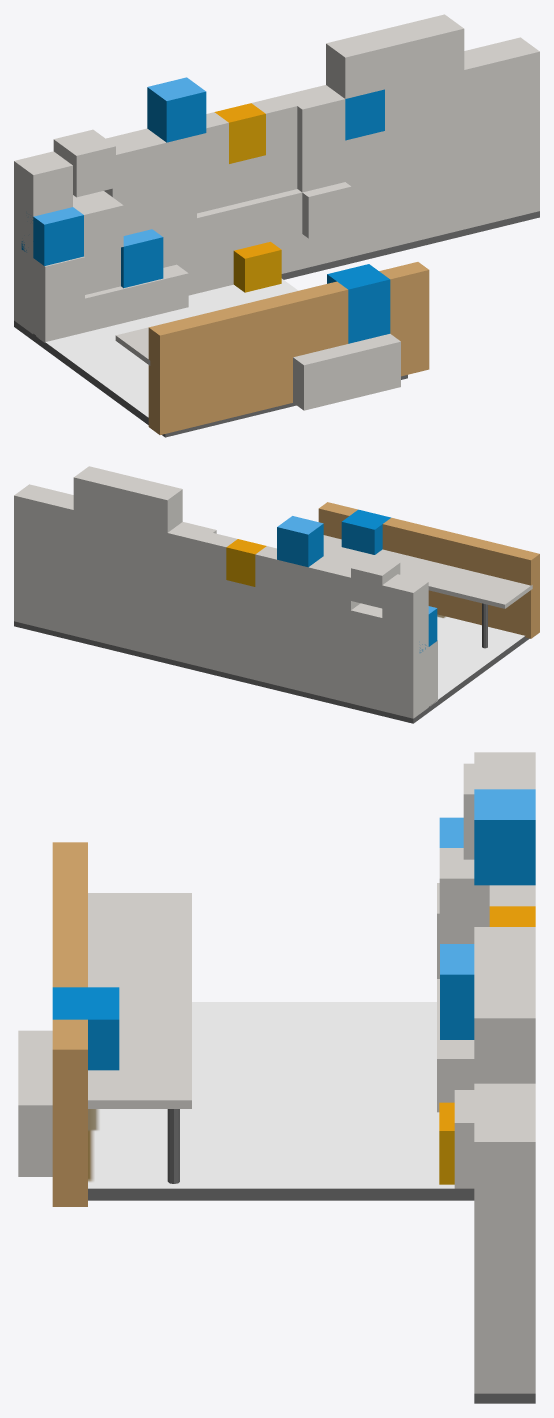
Rendered from ReceptionDesk.fbx.
3 renders of one model, top to bottom at view 1: azimuth 30°, elevation 25°; view 2: azimuth 150°, elevation 25°; view 3: azimuth 270°, elevation 25°, orthographic. The views are drawn at different scales.
Visible parts, largest first — view 1: ReceptionDesk; view 2: ReceptionDesk; view 3: ReceptionDesk.
Boxes of the visible parts, bbox=[...] form: ReceptionDesk: bbox=[14, 14, 539, 437]; ReceptionDesk: bbox=[14, 466, 539, 723]; ReceptionDesk: bbox=[18, 752, 535, 1403].
Size of the model in its own units: 665 by 256 by 368.
